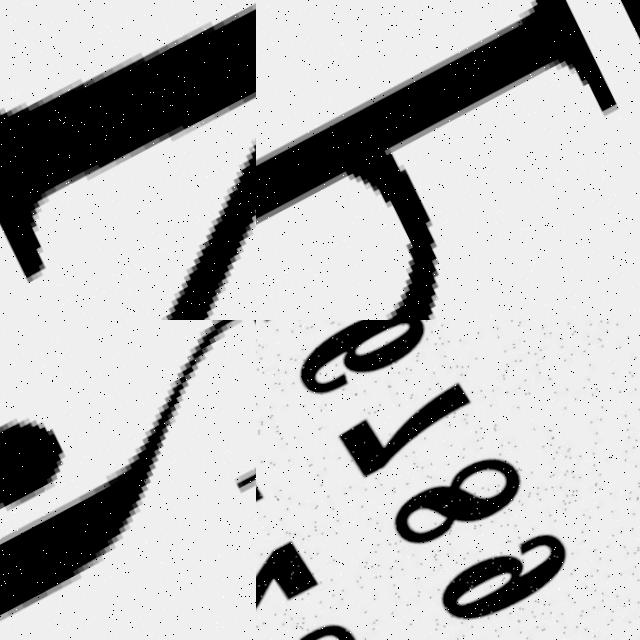1: (256, 429, 303, 599)
2: (0, 320, 256, 640), (256, 507, 345, 640)
3: (256, 585, 396, 640)
6: (262, 320, 452, 434)
7: (309, 340, 514, 511)
8: (349, 422, 554, 596)
9: (401, 492, 613, 640)
P: (256, 0, 623, 320)
V: (0, 0, 256, 320)
